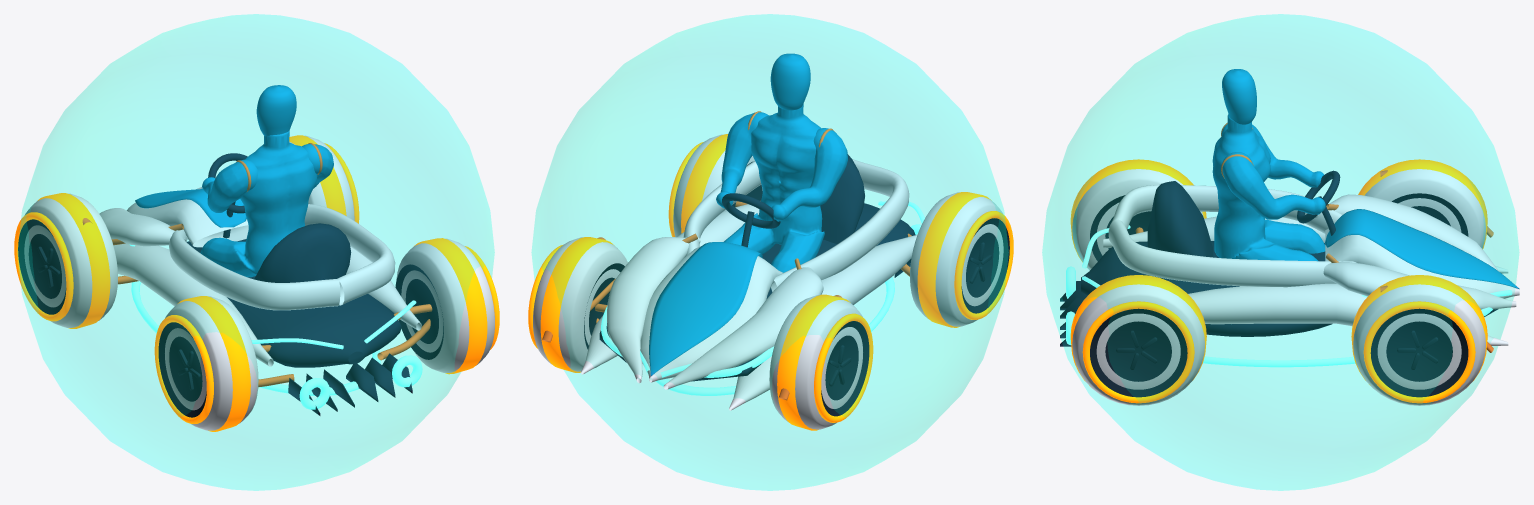
Rendered from hybrid.glb.
3 renders of one model, left to right at view 1: azimuth 30°, elevation 25°; view 2: azimuth 150°, elevation 25°; view 3: azimuth 270°, elevation 25°, orthographic.
Visible parts, largest first — view 1: hybrid:aegis-shield, hybrid:coachwork-batch.001, hybrid:coachwork-batch, hybrid:torso, hybrid:rounded-wheel-shell.003, hybrid:rounded-wheel-shell.002, hybrid:rounded-wheel-shell, hybrid:translucent-tire-band.002, hybrid:translucent-tire-band.003, hybrid:translucent-tire-band, hybrid:recessed-colored-hub.002, hybrid:recessed-colored-hub (+14 smaller); view 2: hybrid:aegis-shield, hybrid:coachwork-batch.001, hybrid:torso, hybrid:bonnet-enamel-inlay, hybrid:rounded-wheel-shell.001, hybrid:rounded-wheel-shell, hybrid:rounded-wheel-shell.002, hybrid:coachwork-batch, hybrid:arm-l-mesh, hybrid:translucent-tire-band.002, hybrid:translucent-tire-band, hybrid:translucent-tire-band.001 (+15 smaller); view 3: hybrid:aegis-shield, hybrid:coachwork-batch.001, hybrid:coachwork-batch, hybrid:torso, hybrid:rounded-wheel-shell.003, hybrid:rounded-wheel-shell.001, hybrid:bonnet-enamel-inlay, hybrid:recessed-colored-hub.003, hybrid:recessed-colored-hub.001, hybrid:rounded-wheel-shell, hybrid:rounded-wheel-shell.002, hybrid:arm-r-mesh (+12 smaller).
Part boxes in pixels (<box>): hybrid:aegis-shield: <box>17,14,494,490</box>; hybrid:coachwork-batch.001: <box>99,187,421,366</box>; hybrid:coachwork-batch: <box>186,201,412,415</box>; hybrid:torso: <box>200,131,317,277</box>; hybrid:rounded-wheel-shell.003: <box>396,238,494,372</box>; hybrid:rounded-wheel-shell.002: <box>165,296,258,430</box>; hybrid:rounded-wheel-shell: <box>24,193,117,327</box>; hybrid:translucent-tire-band.002: <box>177,296,250,431</box>; hybrid:translucent-tire-band.003: <box>413,238,487,374</box>; hybrid:translucent-tire-band: <box>37,193,110,328</box>; hybrid:recessed-colored-hub.002: <box>158,322,206,417</box>; hybrid:recessed-colored-hub: <box>18,219,66,314</box>; hybrid:aegis-shield: <box>531,14,1008,490</box>; hybrid:coachwork-batch.001: <box>581,159,917,410</box>; hybrid:torso: <box>723,104,824,272</box>; hybrid:bonnet-enamel-inlay: <box>649,242,762,376</box>; hybrid:rounded-wheel-shell.001: <box>533,237,627,371</box>; hybrid:rounded-wheel-shell: <box>769,295,862,429</box>; hybrid:rounded-wheel-shell.002: <box>910,192,1003,326</box>; hybrid:coachwork-batch: <box>599,154,915,381</box>; hybrid:arm-l-mesh: <box>771,128,847,221</box>; hybrid:translucent-tire-band.002: <box>917,192,991,327</box>; hybrid:translucent-tire-band: <box>777,294,850,430</box>; hybrid:translucent-tire-band.001: <box>540,237,614,372</box>; hybrid:aegis-shield: <box>1042,14,1519,490</box>; hybrid:coachwork-batch.001: <box>1103,184,1519,345</box>; hybrid:coachwork-batch: <box>1060,181,1498,346</box>; hybrid:torso: <box>1212,114,1325,261</box>; hybrid:rounded-wheel-shell.003: <box>1072,284,1205,405</box>; hybrid:rounded-wheel-shell.001: <box>1353,284,1485,405</box>; hybrid:bonnet-enamel-inlay: <box>1325,209,1519,289</box>; hybrid:recessed-colored-hub.003: <box>1090,308,1187,397</box>; hybrid:recessed-colored-hub.001: <box>1370,308,1468,397</box>; hybrid:rounded-wheel-shell: <box>1365,169,1485,248</box>; hybrid:rounded-wheel-shell.002: <box>1072,169,1203,270</box>; hybrid:arm-r-mesh: <box>1222,152,1325,219</box>.
Bounding box in the file's own units: 4.3 × 4.3 × 4.3.
